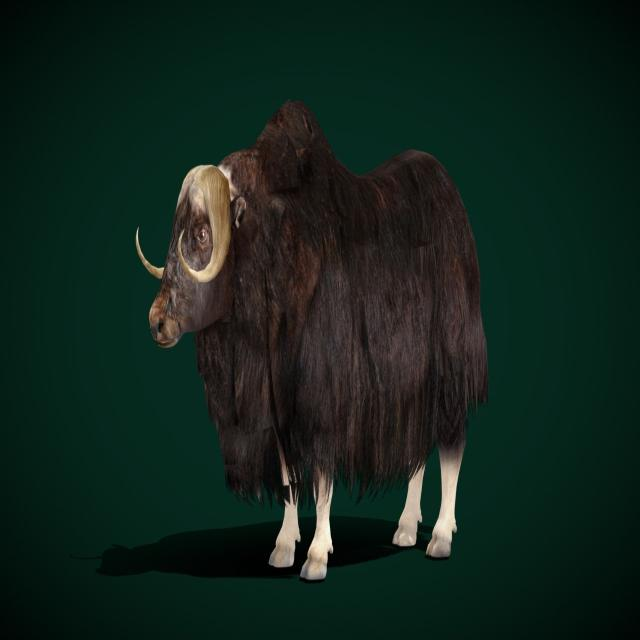Ox: (130, 94, 489, 576)
